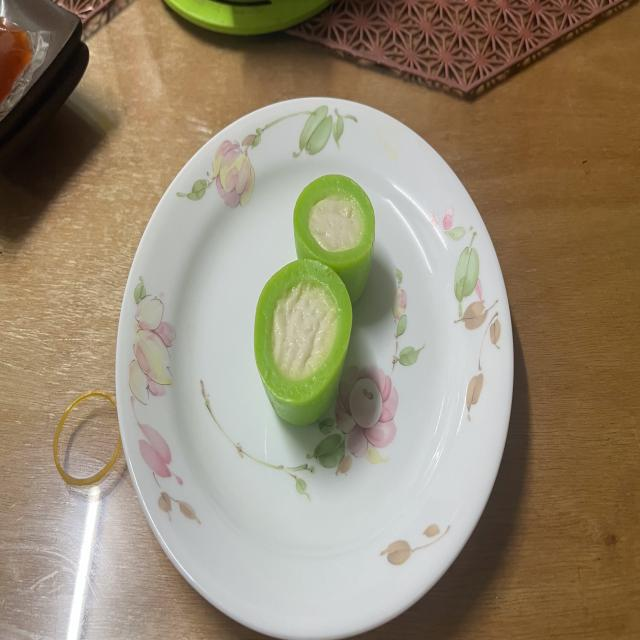nona-manis: (254, 260, 351, 427), (294, 176, 375, 302)
